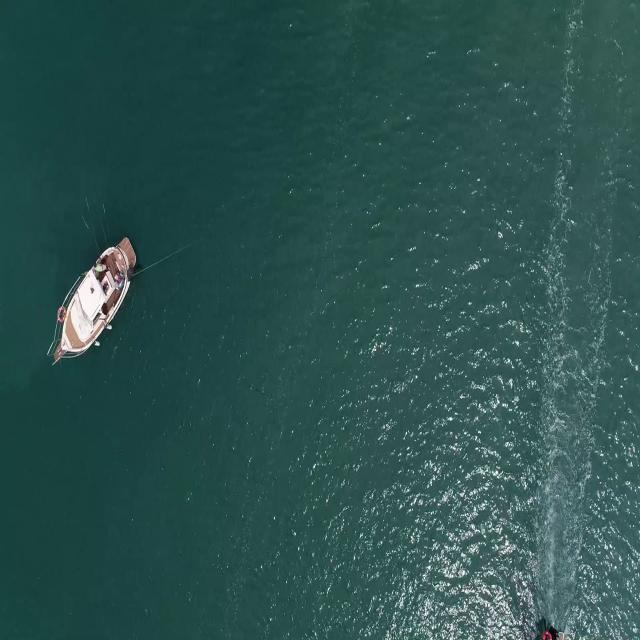boat: (54, 238, 140, 358)
life_buoy: (57, 302, 67, 325)
person: (93, 260, 110, 274), (115, 275, 126, 290)
